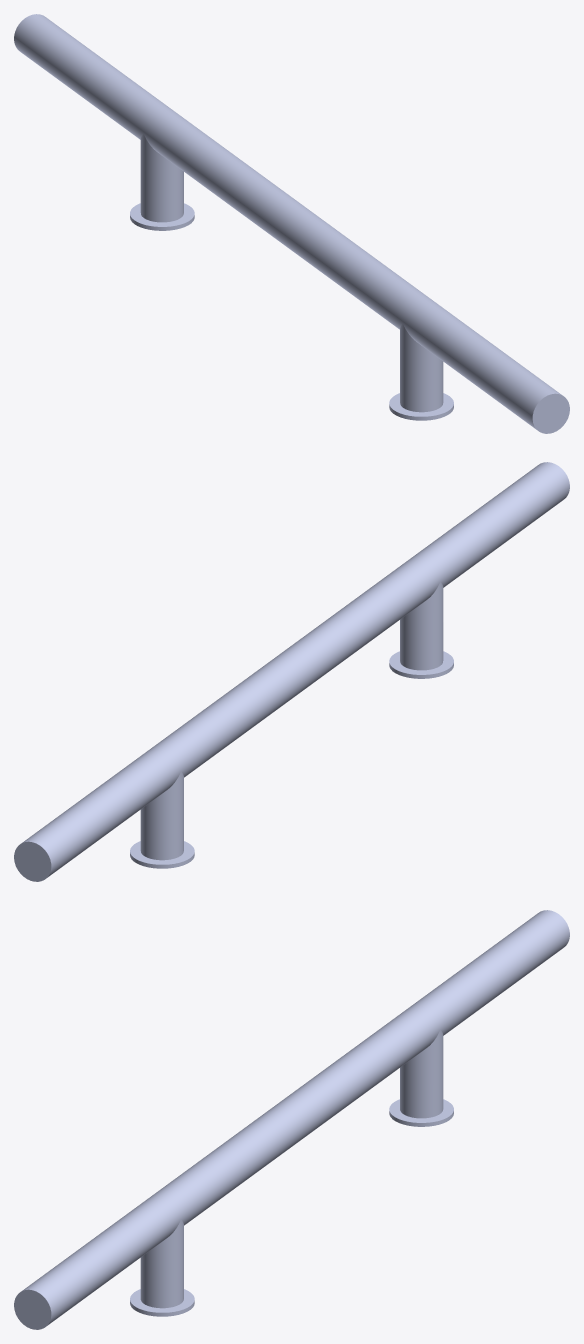
File: Base Handle.fbx
The picture shows the model from 3 angles, top to bottom: view 1: azimuth 30°, elevation 25°; view 2: azimuth 150°, elevation 25°; view 3: azimuth 330°, elevation 25°; orthographic projection.
Parts seen in each view (by area): view 1: Body_1; view 2: Body_1; view 3: Body_1.
Boxes of the visible parts, x1,y1,x2,y2 form: Body_1: (14,14,569,433); Body_1: (14,462,569,881); Body_1: (14,910,569,1329).
Bounding box in the file's own units: 0.0381 × 0.6096 × 0.0698.
